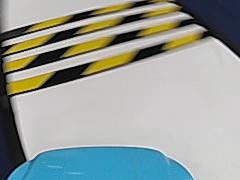bump: (0, 0, 212, 88)
